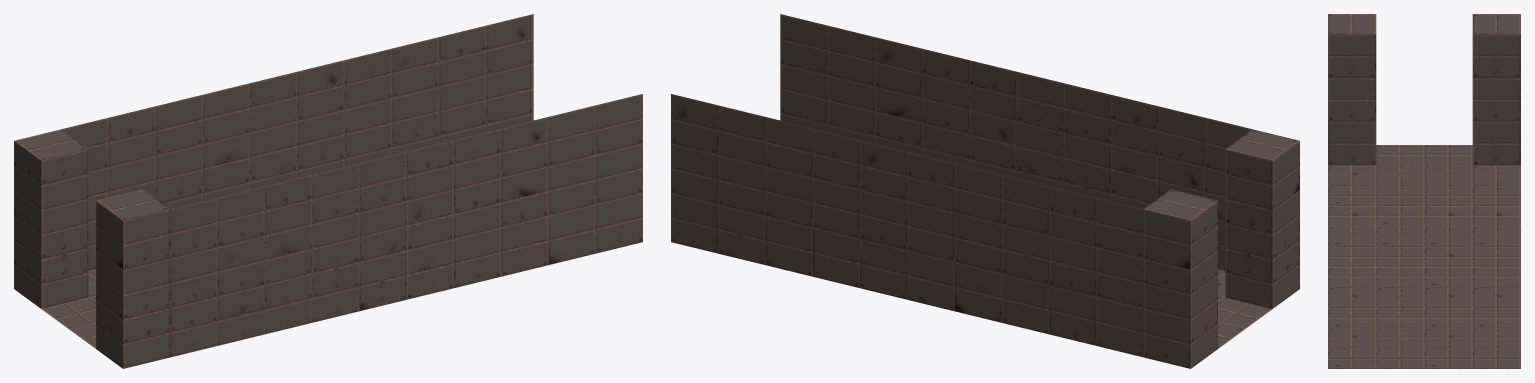
The model's file is Dungeon hallway.obj.
3 views of the same model, side by side, from view 1: azimuth 30°, elevation 25°; view 2: azimuth 150°, elevation 25°; view 3: azimuth 270°, elevation 25° (orthographic). The views are drawn at different scales.
Visible parts, largest first — view 1: Default; view 2: Default; view 3: Default.
Part boxes in pixels (box(x1,y1,x2,y2)): Default: box(14, 14, 642, 368); Default: box(671, 14, 1299, 368); Default: box(1328, 14, 1520, 368).
Bounding box in the file's own units: 22 × 6 × 8.
Materials: 1 (1 with a texture image).
